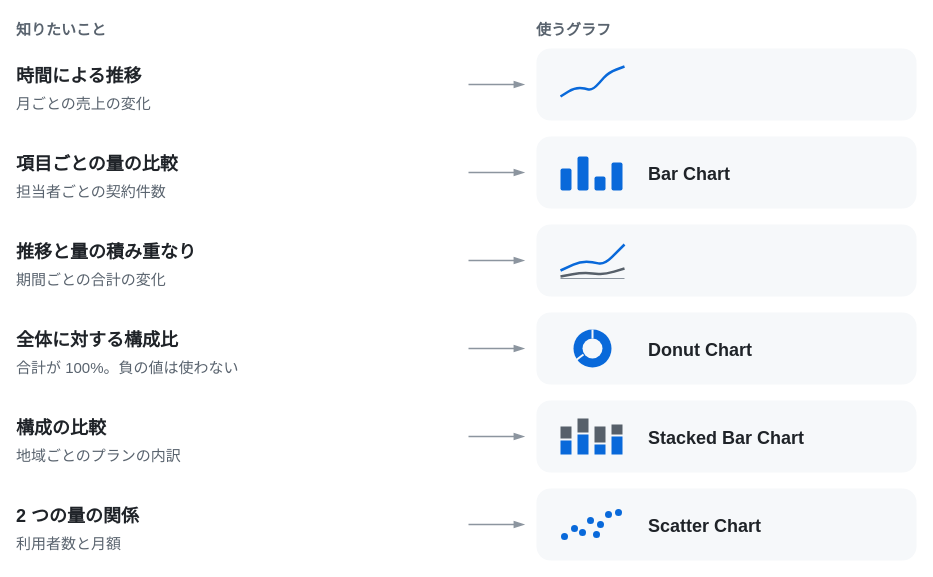
Image size: 933x577. Some labels were removed from this diagram. Each missing label, with the centre of its shape:
"Area Chart" goes at pixel 726 260.
"Line Chart" goes at pixel 726 84.
